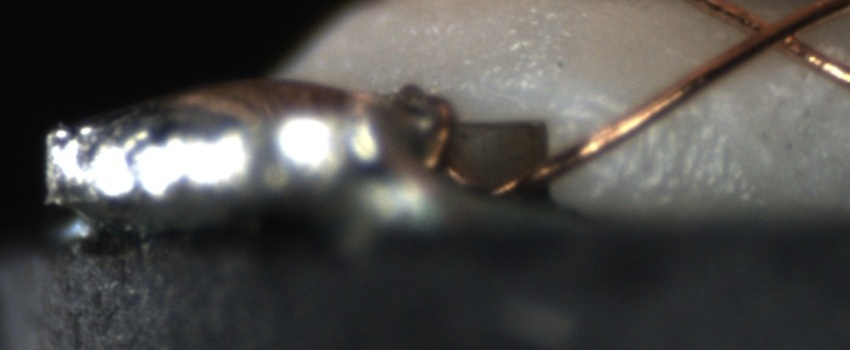CL: (736, 3, 822, 62)
DL: (561, 94, 709, 141)
TE: (360, 82, 485, 199)
